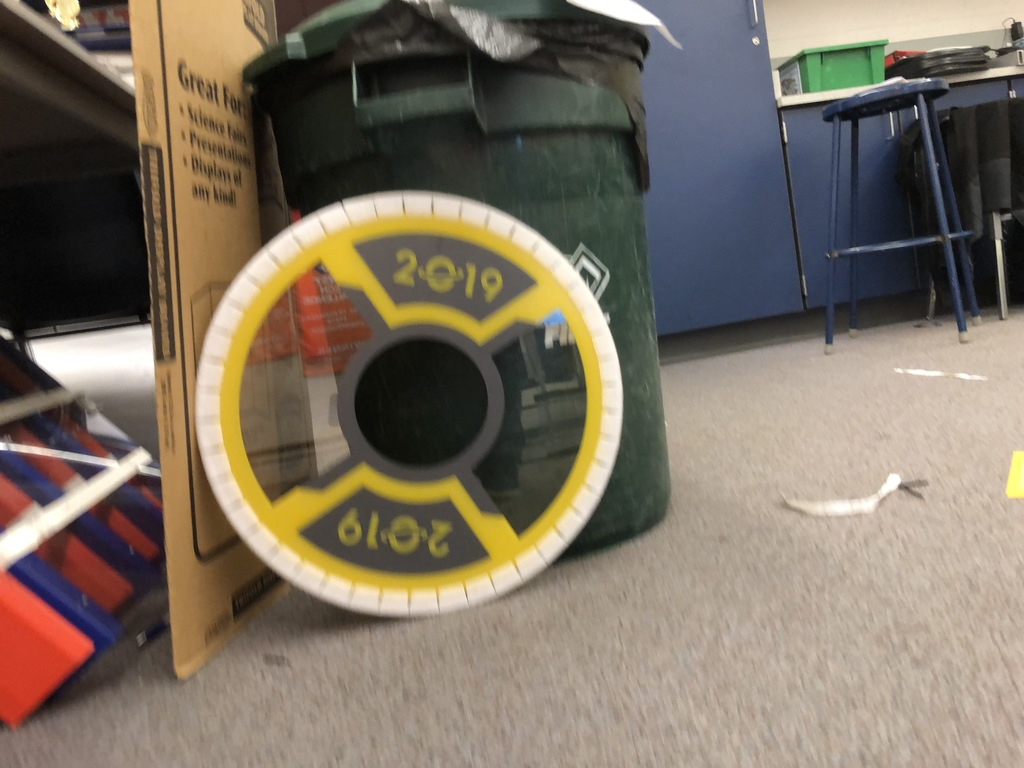hatch_panel: (183, 166, 636, 615)
